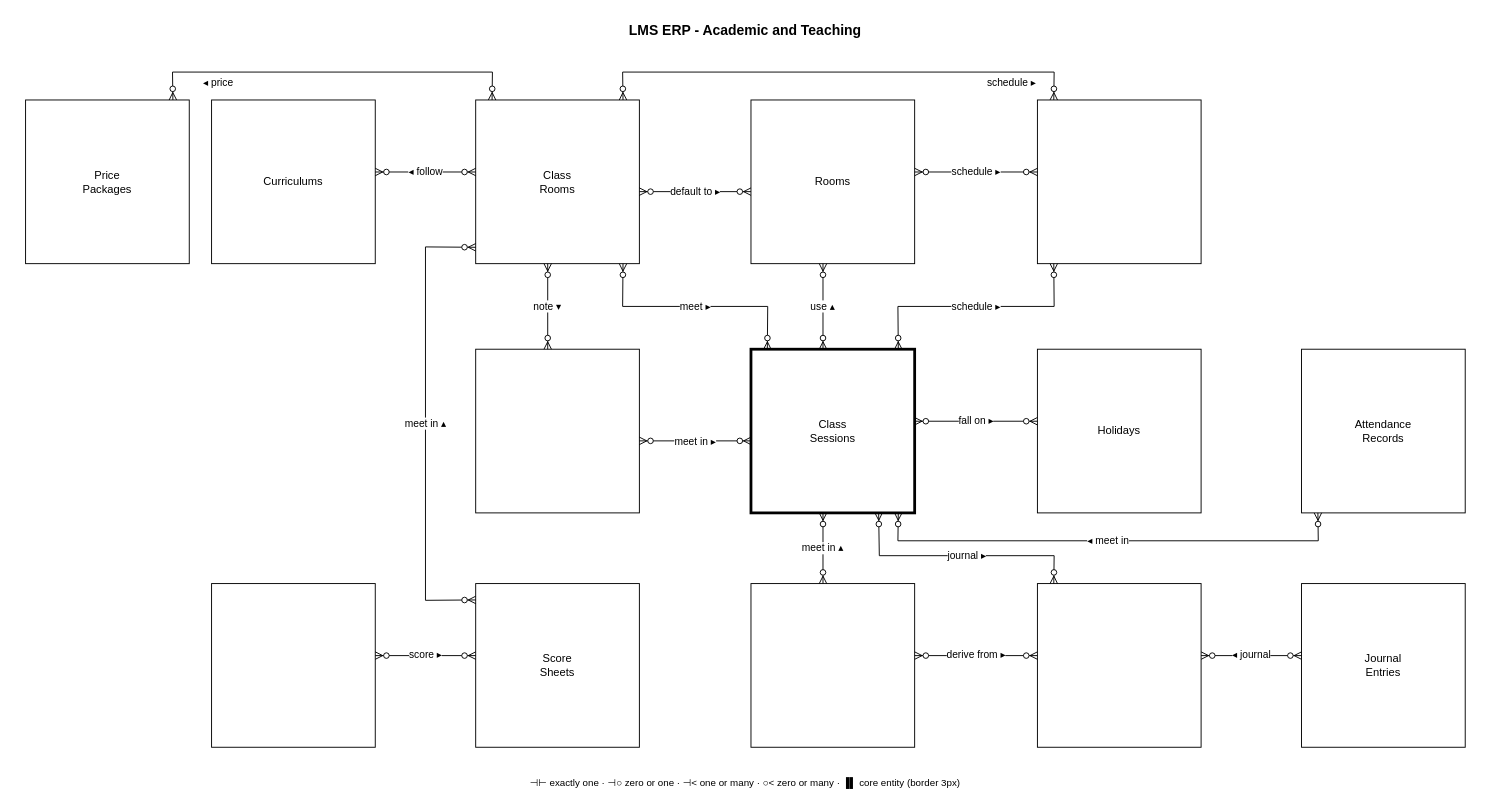
The diagram is 1490 pixels wide and 807 high, and some of its shapes have lost their labels. The centre of each missing label's shape, as x and y in pixels:
"Class Room Notes" belongs at pixel 557 430.
"Schedules" belongs at pixel 1118 181.
"Scores" belongs at pixel 293 665.
"Session Journals" belongs at pixel 1118 665.
"Teaching Work Logs" belongs at pixel 832 665.
